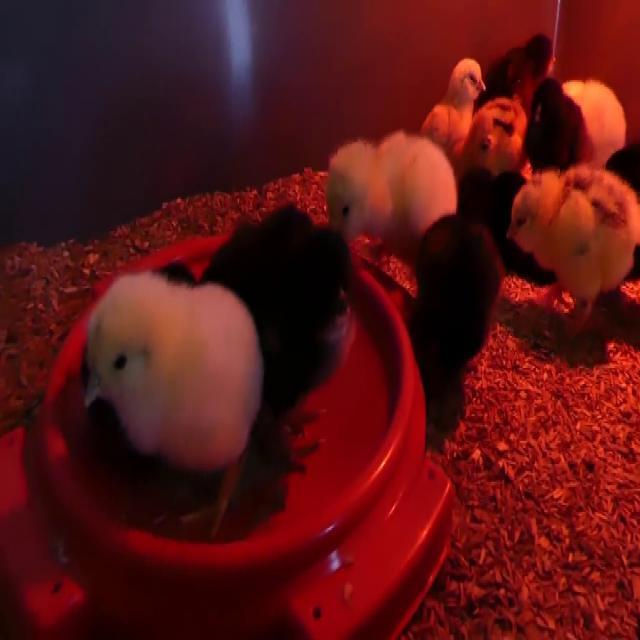poussin: (80, 273, 262, 516), (207, 204, 361, 408), (506, 164, 636, 338), (412, 215, 506, 390), (322, 132, 458, 250), (455, 89, 535, 175), (418, 57, 491, 146), (560, 80, 632, 168), (482, 29, 562, 100), (524, 74, 586, 165)
